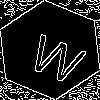W: (25, 25, 92, 86)
